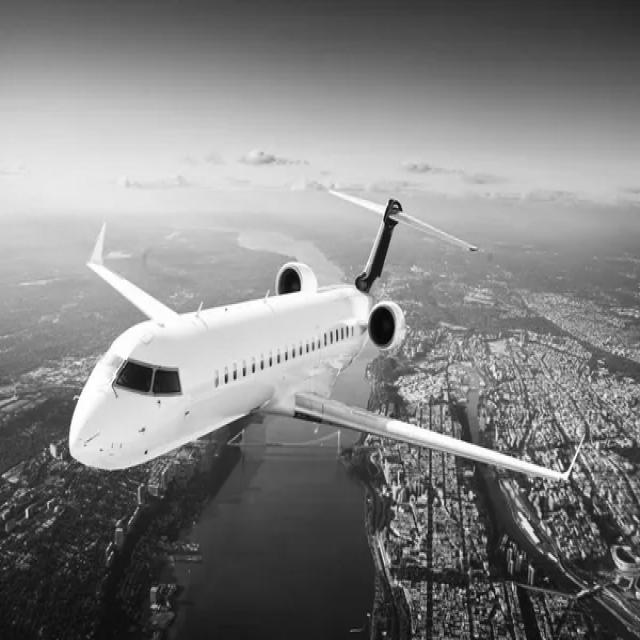Aircraft: (67, 172, 558, 522)
